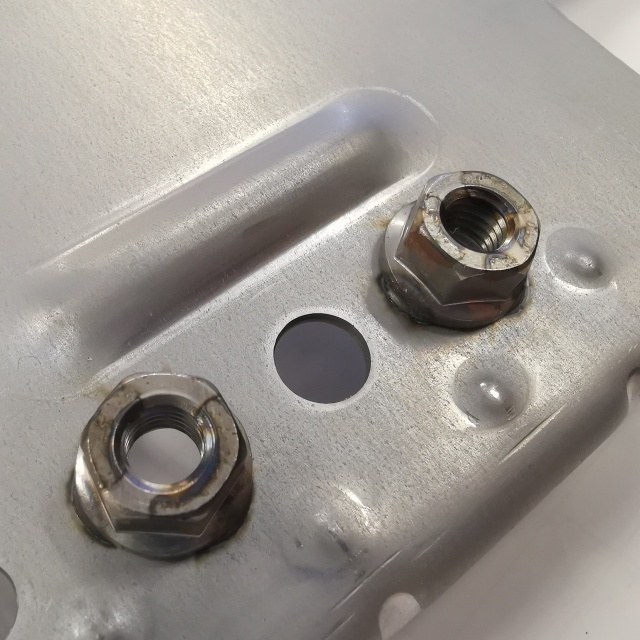dog: (64, 369, 258, 564), (377, 166, 544, 334)
